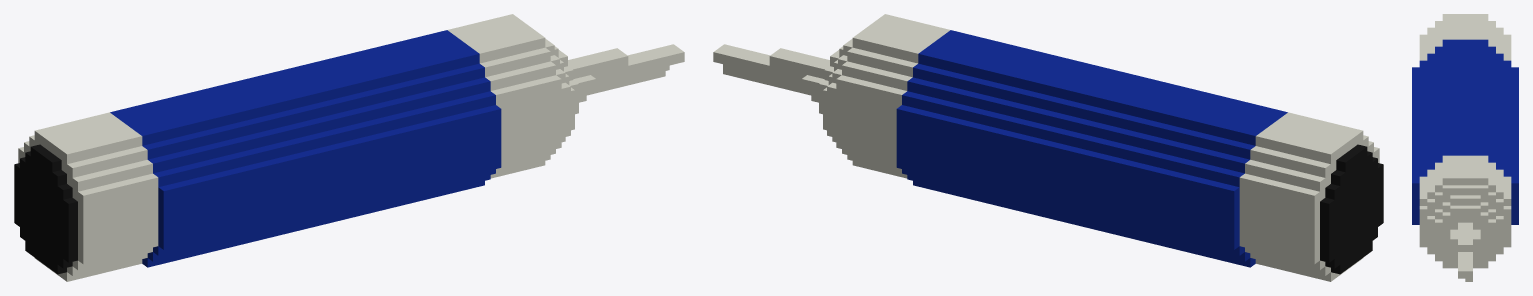
The model's file is squeeze_tube.glb.
3 views of the same model, side by side, from view 1: azimuth 30°, elevation 25°; view 2: azimuth 150°, elevation 25°; view 3: azimuth 270°, elevation 25° (orthographic). The views are drawn at different scales.
Parts seen in each view (by area): view 1: squeeze_tube:compound; view 2: squeeze_tube:compound; view 3: squeeze_tube:compound.
Part boxes in pixels (<box>): squeeze_tube:compound: <box>14,14,684,281</box>; squeeze_tube:compound: <box>713,14,1383,281</box>; squeeze_tube:compound: <box>1412,14,1518,281</box>.
Bounding box in the file's own units: 0.272 × 0.052 × 0.056.
